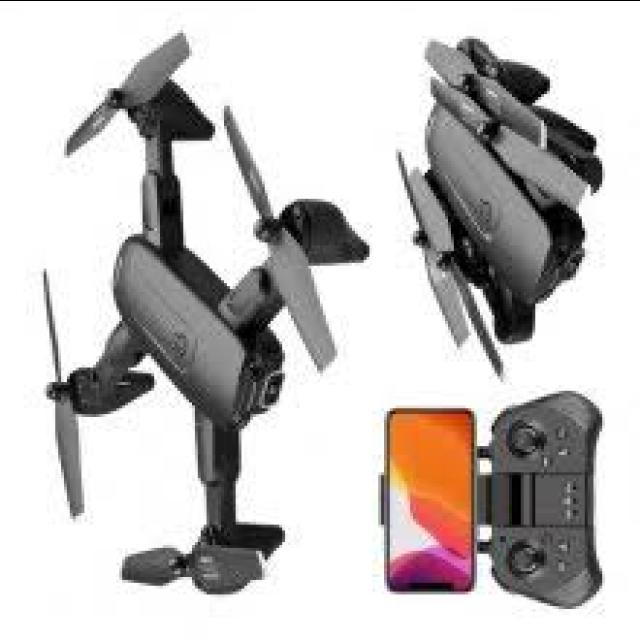drone: (31, 28, 370, 622)
